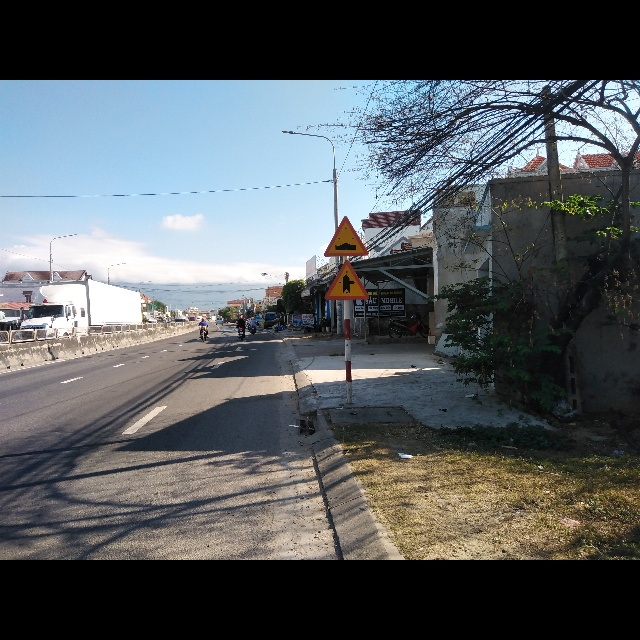Giao nhau với đường không ưu tiên: (324, 261, 370, 301)
Đường không bằng phẳng: (323, 214, 372, 257)
